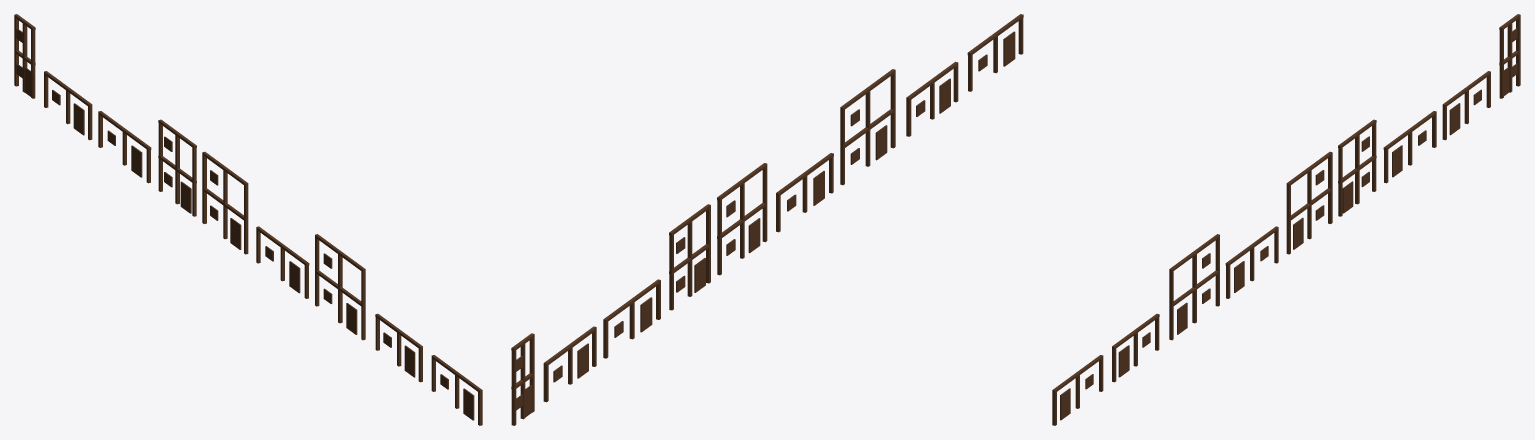
File: HouseTimberE.fbx
3 views of the same model, side by side, from view 1: azimuth 30°, elevation 25°; view 2: azimuth 150°, elevation 25°; view 3: azimuth 330°, elevation 25° (orthographic). The views are drawn at different scales.
Parts seen in each view (by area): view 1: PostE0_-10.001; view 2: PostE0_-10.001; view 3: PostE0_-10.001.
Boxes of the visible parts, bbox=[...] form: PostE0_-10.001: bbox=[14, 14, 482, 425]; PostE0_-10.001: bbox=[511, 14, 1023, 425]; PostE0_-10.001: bbox=[1052, 14, 1520, 425].
Bounding box in the file's own units: 70 × 1700 × 20300.
